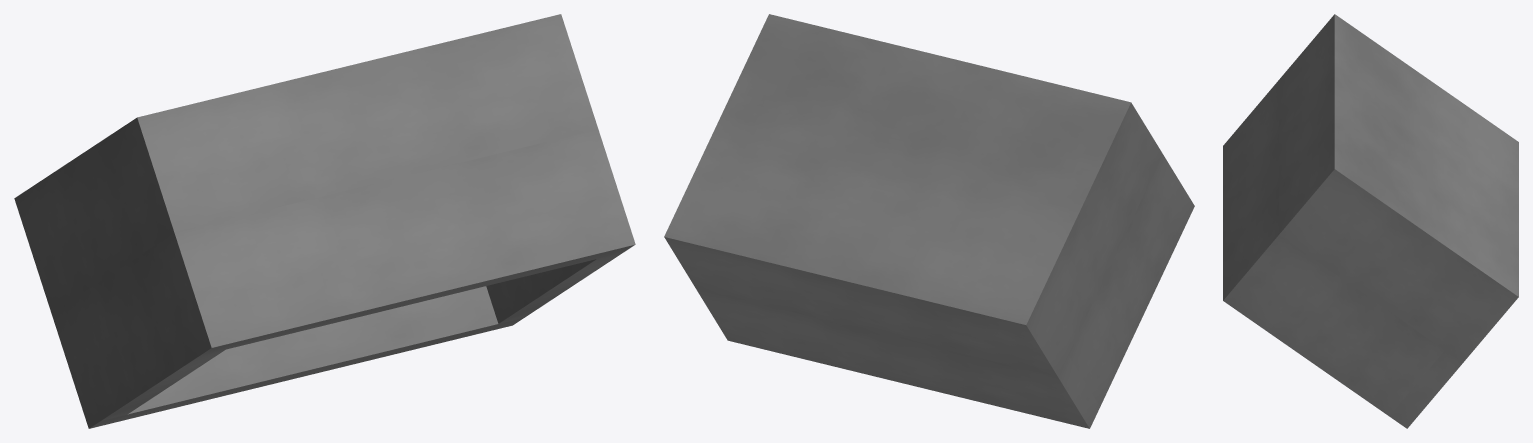
File: dc_metro_arch_a8.obj
3 views of the same model, side by side, from view 1: azimuth 30°, elevation 25°; view 2: azimuth 150°, elevation 25°; view 3: azimuth 270°, elevation 25° (orthographic). The views are drawn at different scales.
Parts seen in each view (by area): view 1: part8; view 2: part8; view 3: part8.
Part boxes in pixels (left/top/right/bottom): part8: left=14, top=14, right=635, bottom=428; part8: left=664, top=14, right=1194, bottom=428; part8: left=1223, top=14, right=1518, bottom=428.
Size of the model in its own units: 2 by 1.56 by 1.61.
Materials: 1 (1 with a texture image).
